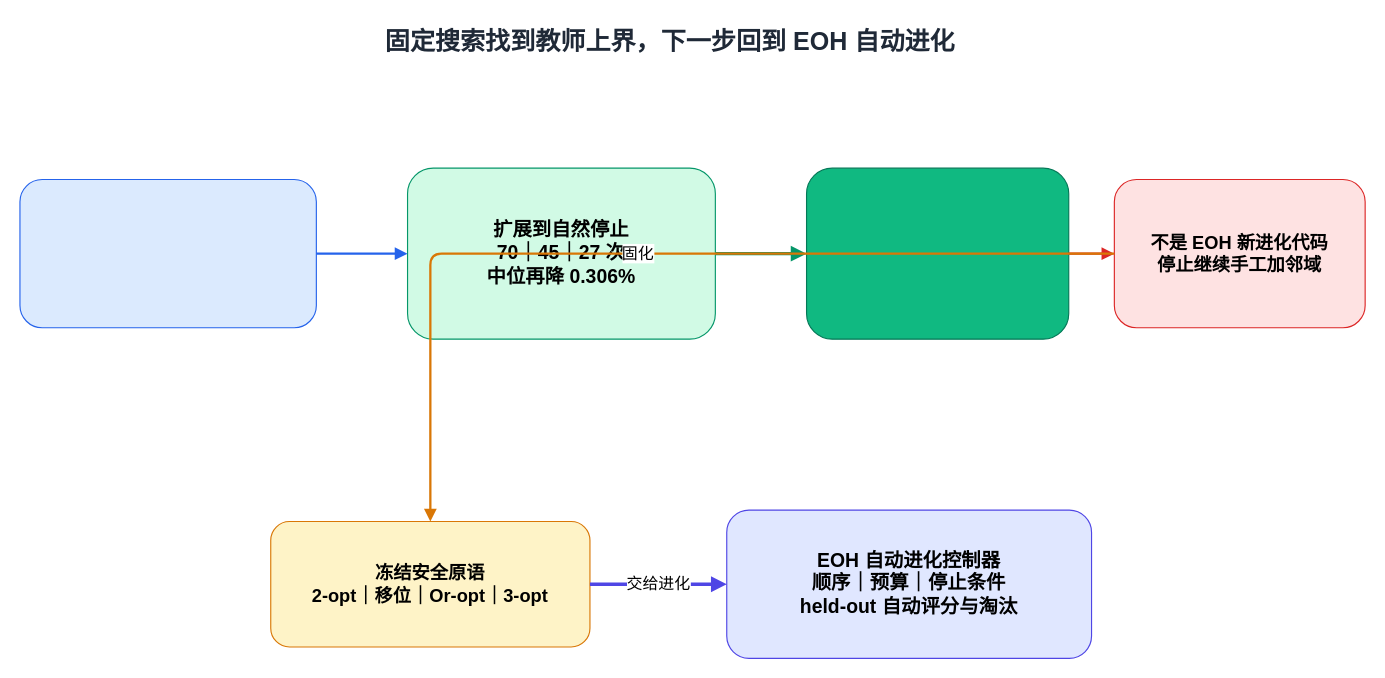
The diagram is 1385 pixels wide and 678 high, and some of its shapes have lost their labels. The centre of each missing label's shape, as x and y in pixels:
"3-opt 最多 20 次 三例全部触顶 平均总降幅 13.61%" goes at (167,253).
"教师上界 平均 13.89% 中位 14.14%" goes at (937,253).
